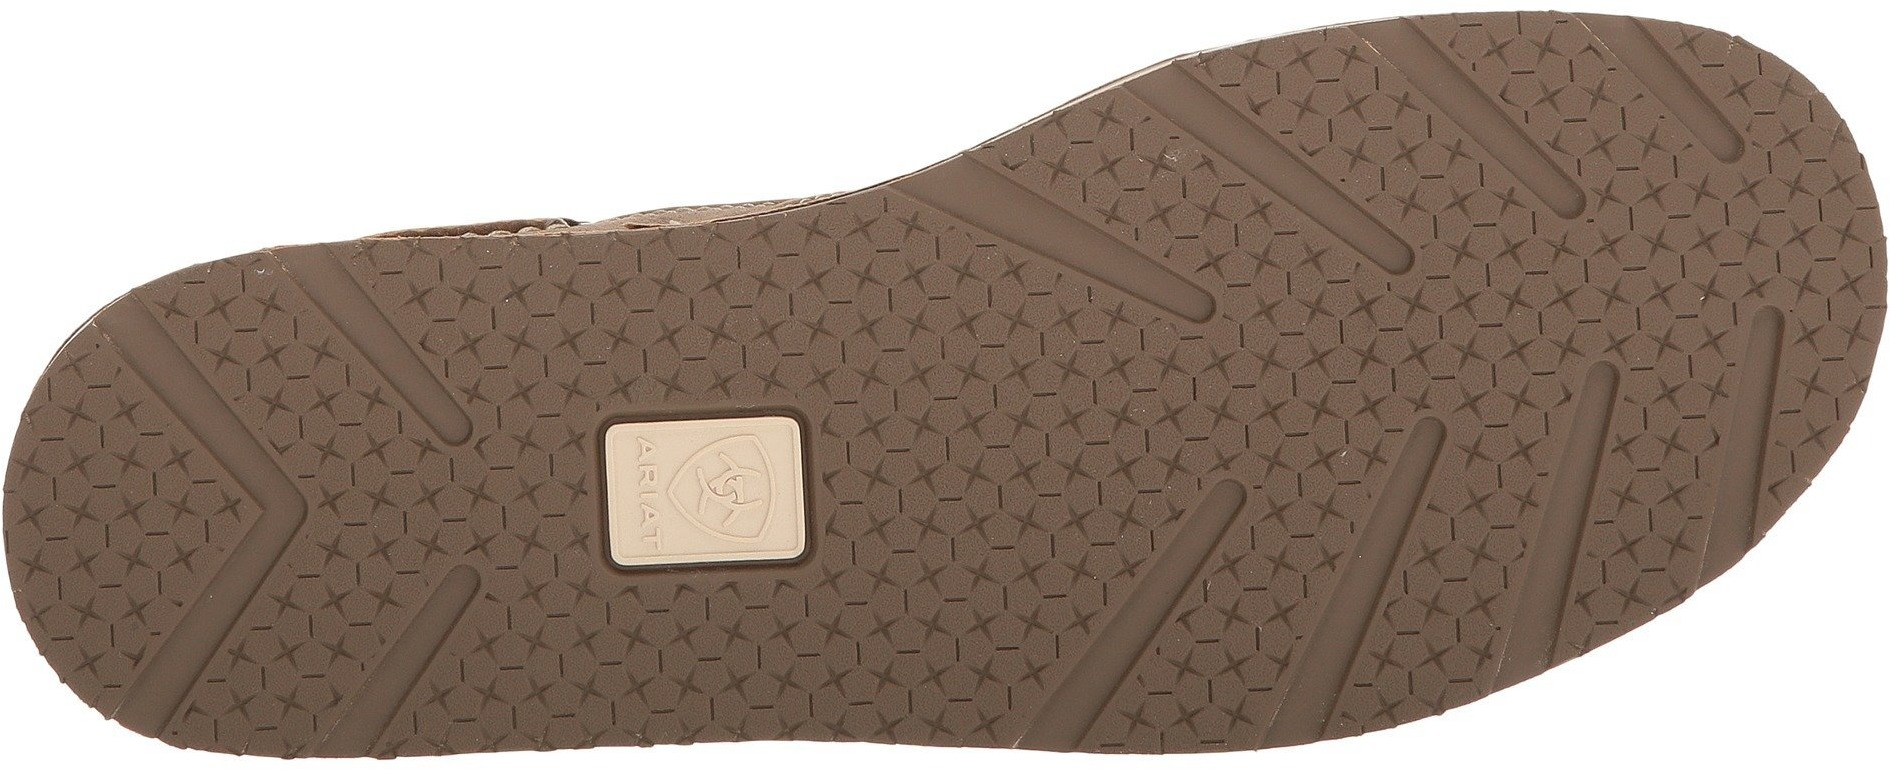chevron: (168, 413, 355, 611)
polygon: (812, 478, 1037, 722), (824, 396, 1015, 582), (644, 222, 825, 390), (1000, 321, 1158, 511), (467, 238, 646, 391), (488, 576, 652, 743), (1415, 259, 1573, 428), (832, 237, 995, 399), (311, 406, 490, 550), (1593, 197, 1747, 350), (1206, 212, 1351, 363), (1363, 101, 1524, 218), (1412, 536, 1507, 660)
quad: (605, 422, 803, 567)
star: (812, 478, 1037, 722), (824, 396, 1015, 582), (644, 222, 825, 390), (1000, 321, 1158, 511), (467, 238, 646, 391), (488, 576, 652, 743), (1240, 301, 1401, 466), (1415, 259, 1573, 428), (832, 237, 995, 399), (311, 406, 490, 550), (1593, 197, 1747, 350), (1363, 101, 1524, 218), (1412, 536, 1507, 660)
text: (632, 428, 663, 568)
